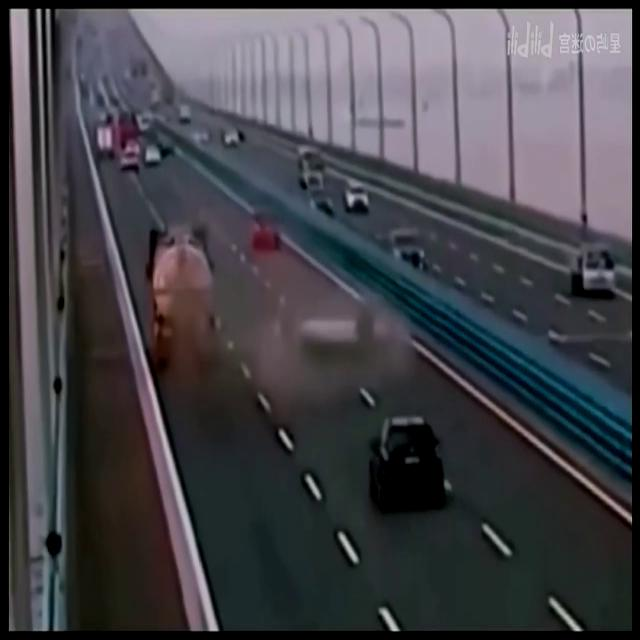accident: (146, 224, 400, 376)
non-accident: (96, 110, 162, 174), (296, 144, 334, 223), (307, 180, 368, 223)
